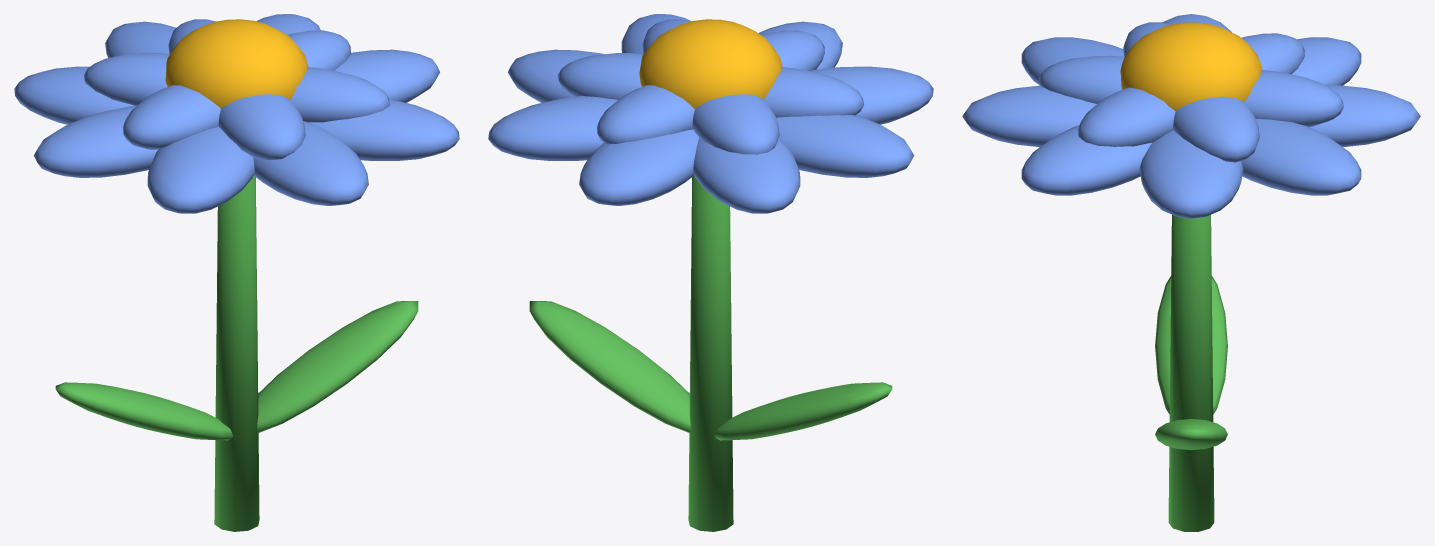
The model's file is flower_blue.glb.
3 views of the same model, side by side, from view 1: azimuth 30°, elevation 25°; view 2: azimuth 150°, elevation 25°; view 3: azimuth 270°, elevation 25° (orthographic).
Parts seen in each view (by area): view 1: flower_blue; view 2: flower_blue; view 3: flower_blue.
Boxes of the visible parts, box(x1,y1,x2,y2) form: flower_blue: box(14, 14, 459, 531); flower_blue: box(488, 14, 933, 531); flower_blue: box(962, 14, 1420, 531).
Bounding box in the file's own units: 0.44 × 0.52 × 0.44.
